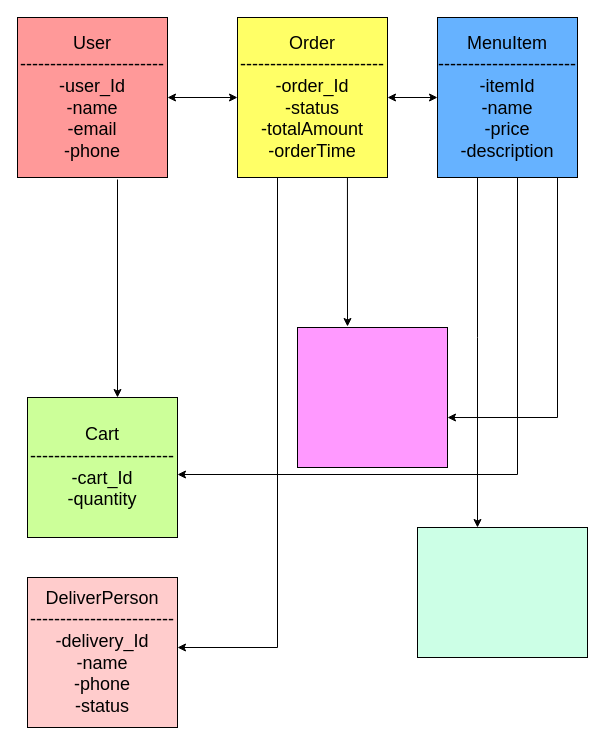
The diagram is 605 pixels wide and 745 high, and some of its shapes have lost their labels. Each missing label, with the centre of its shape:
"Payment ------------------------ -payment_Id -method -status" goes at (372,397).
"Restaurant ------------------------ -restaurant_Id -name -location" goes at (502,592).
